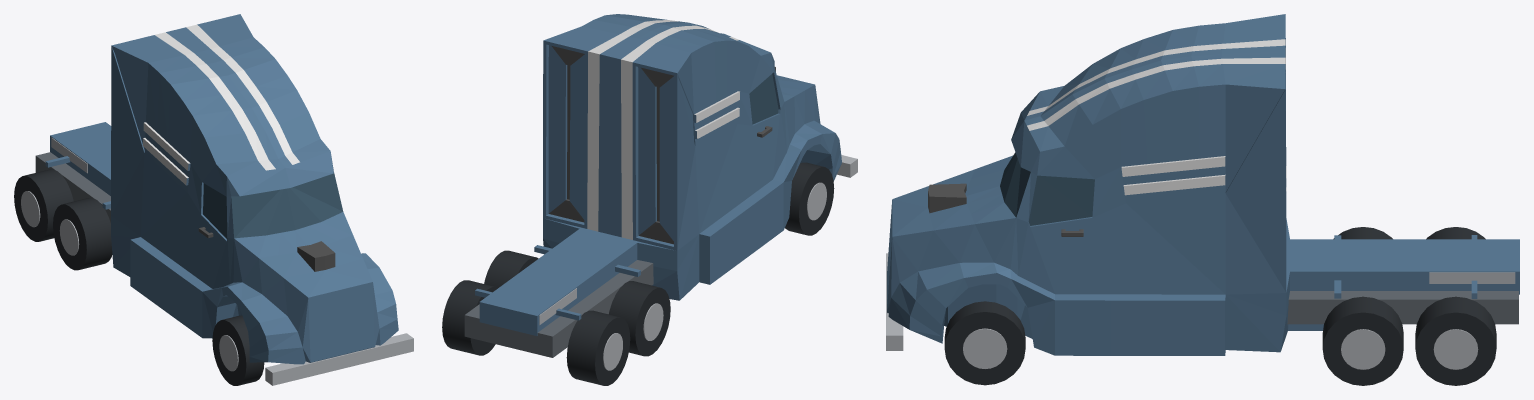
The model's file is semi-tractor.glb.
The picture shows the model from 3 angles, left to right: view 1: azimuth 30°, elevation 25°; view 2: azimuth 150°, elevation 25°; view 3: azimuth 270°, elevation 25°; orthographic projection. The views are drawn at different scales.
Parts seen in each view (by area): view 1: Cube.016, wheel_lr-tire, wheel_lr2-tire, bumper, wheel_lf-tire, rear-chassis, wheel_lf-rim-1, wheel_lr2-rim-1, wheel_lr-rim-1, fifth-wheel; view 2: Cube.016, rear-chassis, wheel_lr2-tire, wheel_lr-tire, wheel_rr2-tire, wheel_lf-tire, wheel_rr-tire, wheel_lr-rim-1, wheel_lr2-rim-1, wheel_lf-rim-1, fifth-wheel, bumper; view 3: Cube.016, wheel_rr2-tire, wheel_rr-tire, rear-chassis, wheel_rf-tire, wheel_rr-rim1, wheel_rr2-rim1, wheel_rf-rim1, fifth-wheel, bumper, wheel_lr2-tire, wheel_lr-tire.
Part boxes in pixels (<box>): Cube.016: <box>45,14,398,364</box>; wheel_lr-tire: <box>53,198,112,270</box>; wheel_lr2-tire: <box>14,169,73,241</box>; bumper: <box>265,333,413,385</box>; wheel_lf-tire: <box>212,315,264,385</box>; rear-chassis: <box>35,152,110,222</box>; wheel_lf-rim-1: <box>219,335,238,371</box>; wheel_lr2-rim-1: <box>21,191,40,227</box>; wheel_lr-rim-1: <box>59,219,79,255</box>; fifth-wheel: <box>51,137,87,173</box>; Cube.016: <box>475,14,841,335</box>; rear-chassis: <box>464,260,653,357</box>; wheel_lr2-tire: <box>566,310,630,385</box>; wheel_lr-tire: <box>609,281,670,356</box>; wheel_rr2-tire: <box>442,280,497,355</box>; wheel_lf-tire: <box>785,162,834,235</box>; wheel_rr-tire: <box>484,250,538,287</box>; wheel_lr-rim-1: <box>643,303,663,340</box>; wheel_lr2-rim-1: <box>603,333,622,370</box>; wheel_lf-rim-1: <box>807,182,826,220</box>; fifth-wheel: <box>539,288,576,325</box>; bumper: <box>837,155,857,177</box>; Cube.016: <box>887,14,1519,355</box>; wheel_rr2-tire: <box>1415,296,1496,385</box>; wheel_rr-tire: <box>1322,296,1403,385</box>; rear-chassis: <box>1287,291,1518,324</box>; wheel_rf-tire: <box>944,301,1025,385</box>; wheel_rr-rim1: <box>1341,329,1385,369</box>; wheel_rr2-rim1: <box>1433,329,1478,369</box>; wheel_rf-rim1: <box>963,328,1007,368</box>; fifth-wheel: <box>1429,272,1515,283</box>; bumper: <box>886,253,903,350</box>; wheel_lr2-tire: <box>1426,227,1485,239</box>; wheel_lr-tire: <box>1333,227,1392,239</box>.
Size of the model in its own units: 2.63 by 4.13 by 8.13.
